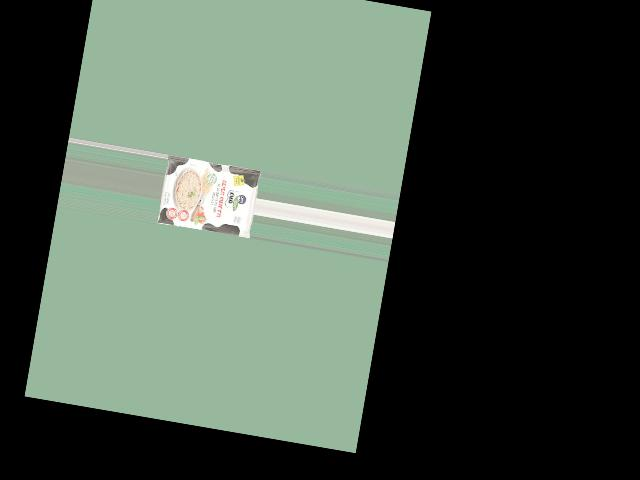cheese: (159, 153, 254, 249)
